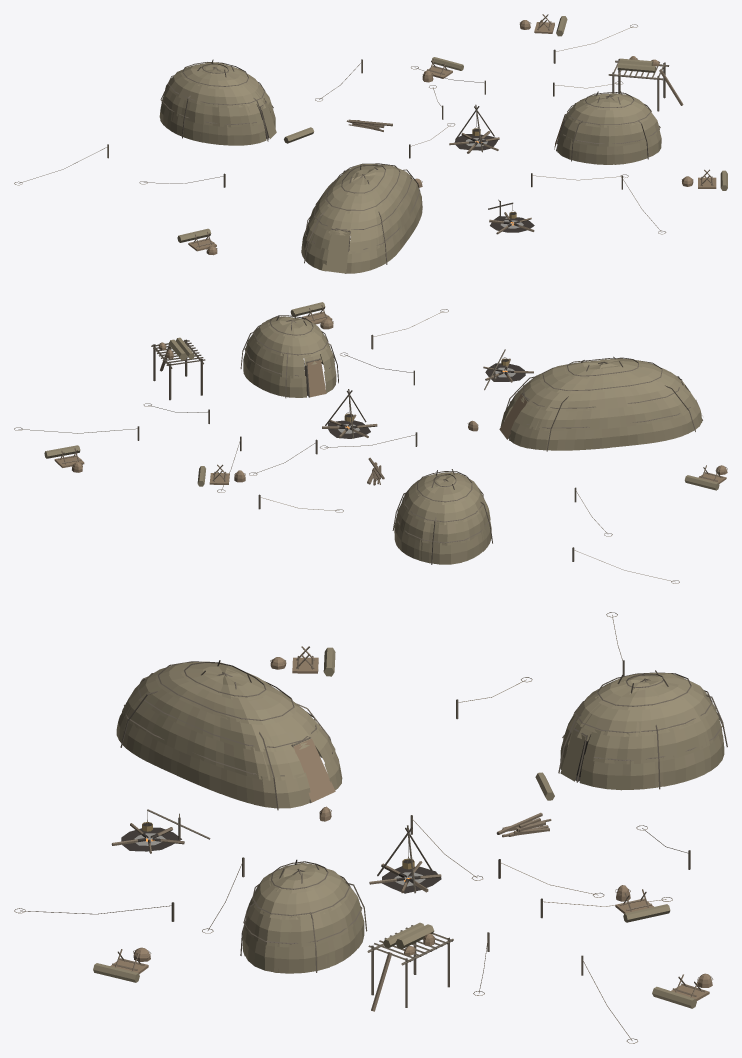
Rendered from miami_escort_camp_1812__camp_1812.glb.
The picture shows the model from 3 angles, top to bottom: view 1: azimuth 30°, elevation 25°; view 2: azimuth 150°, elevation 25°; view 3: azimuth 270°, elevation 25°; orthographic projection. The views are drawn at different scales.
Parts seen in each view (by area): view 1: miami_escort_camp_1812__camp_1812; view 2: miami_escort_camp_1812__camp_1812; view 3: miami_escort_camp_1812__camp_1812.
Boxes of the visible parts, x1,y1,x2,y2 form: miami_escort_camp_1812__camp_1812: (14, 14, 727, 273); miami_escort_camp_1812__camp_1812: (14, 302, 727, 583); miami_escort_camp_1812__camp_1812: (14, 612, 727, 1043).
Size of the model in its own units: 31.72 by 3.05 by 22.21.
